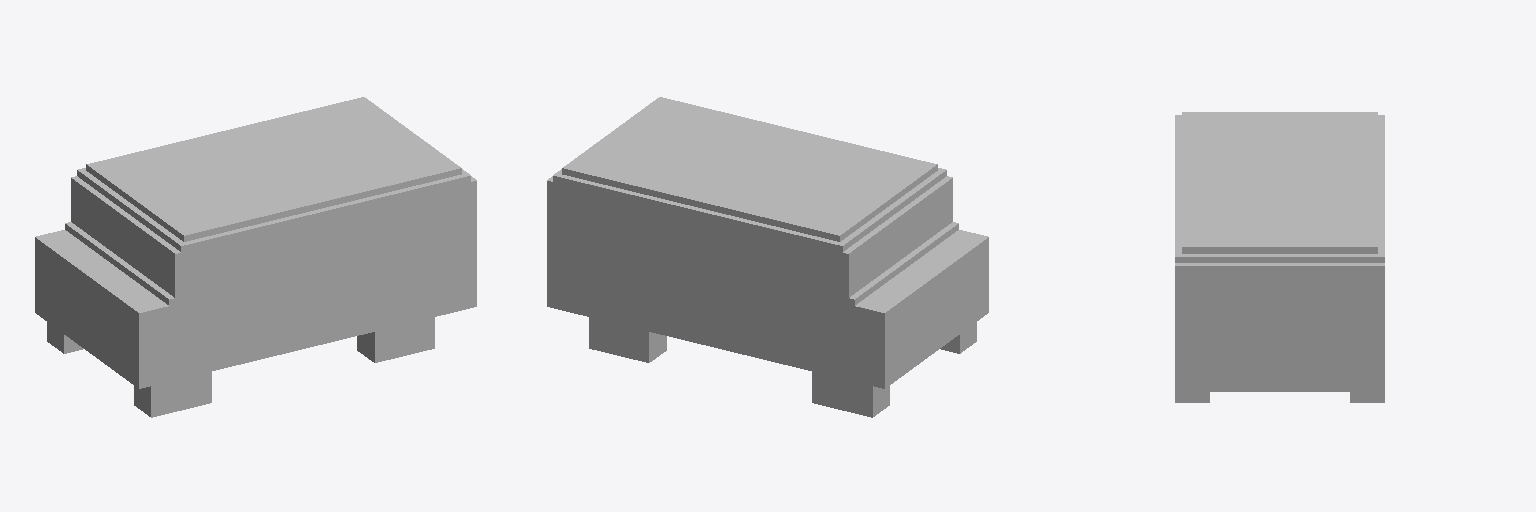
Rendered from van.obj.
3 views of the same model, side by side, from view 1: azimuth 30°, elevation 25°; view 2: azimuth 150°, elevation 25°; view 3: azimuth 270°, elevation 25° (orthographic).
Parts seen in each view (by area): view 1: object 1; view 2: object 1; view 3: object 1.
Part boxes in pixels (x1,y1,x2,y2): object 1: (35,97,476,417); object 1: (547,97,988,417); object 1: (1175,112,1384,402).
Bounding box in the file's own units: 5.6 × 2.7 × 3.